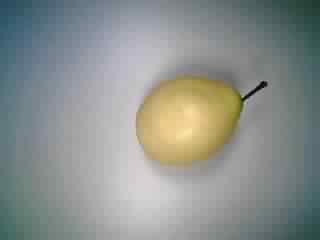pear: (123, 68, 274, 168)
